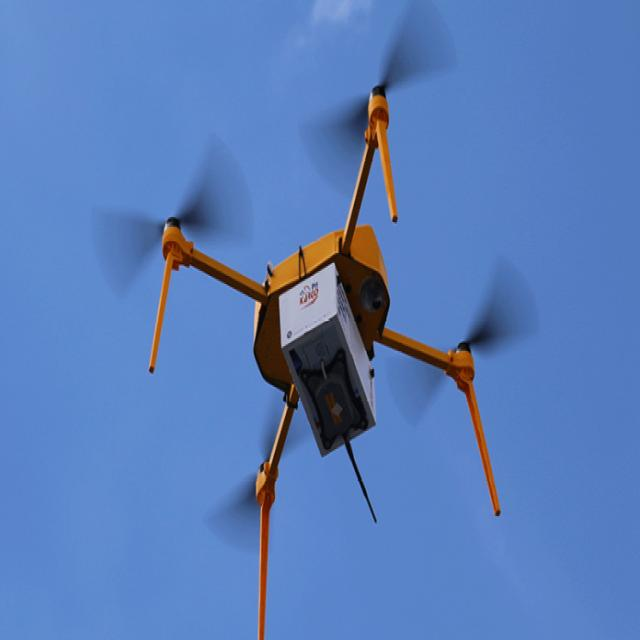drone: (141, 55, 545, 528)
